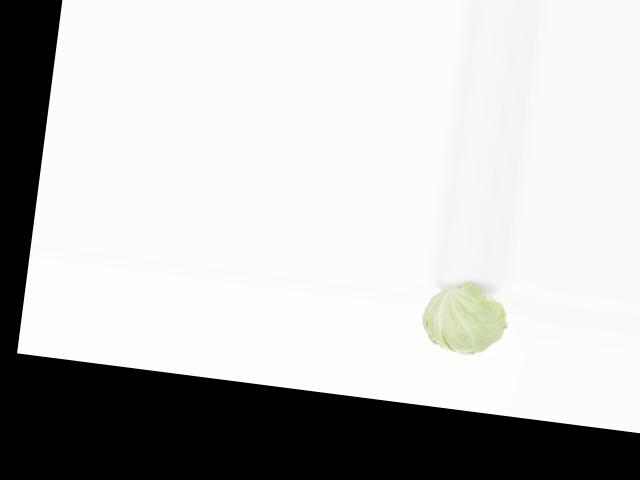lettuce: (413, 285, 513, 360)
